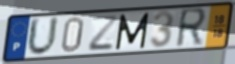0: (59, 15, 85, 55)
3: (148, 9, 176, 51)
M: (114, 11, 151, 52)
R: (174, 6, 209, 50)
U: (26, 15, 61, 58)
Z: (86, 15, 119, 53)
